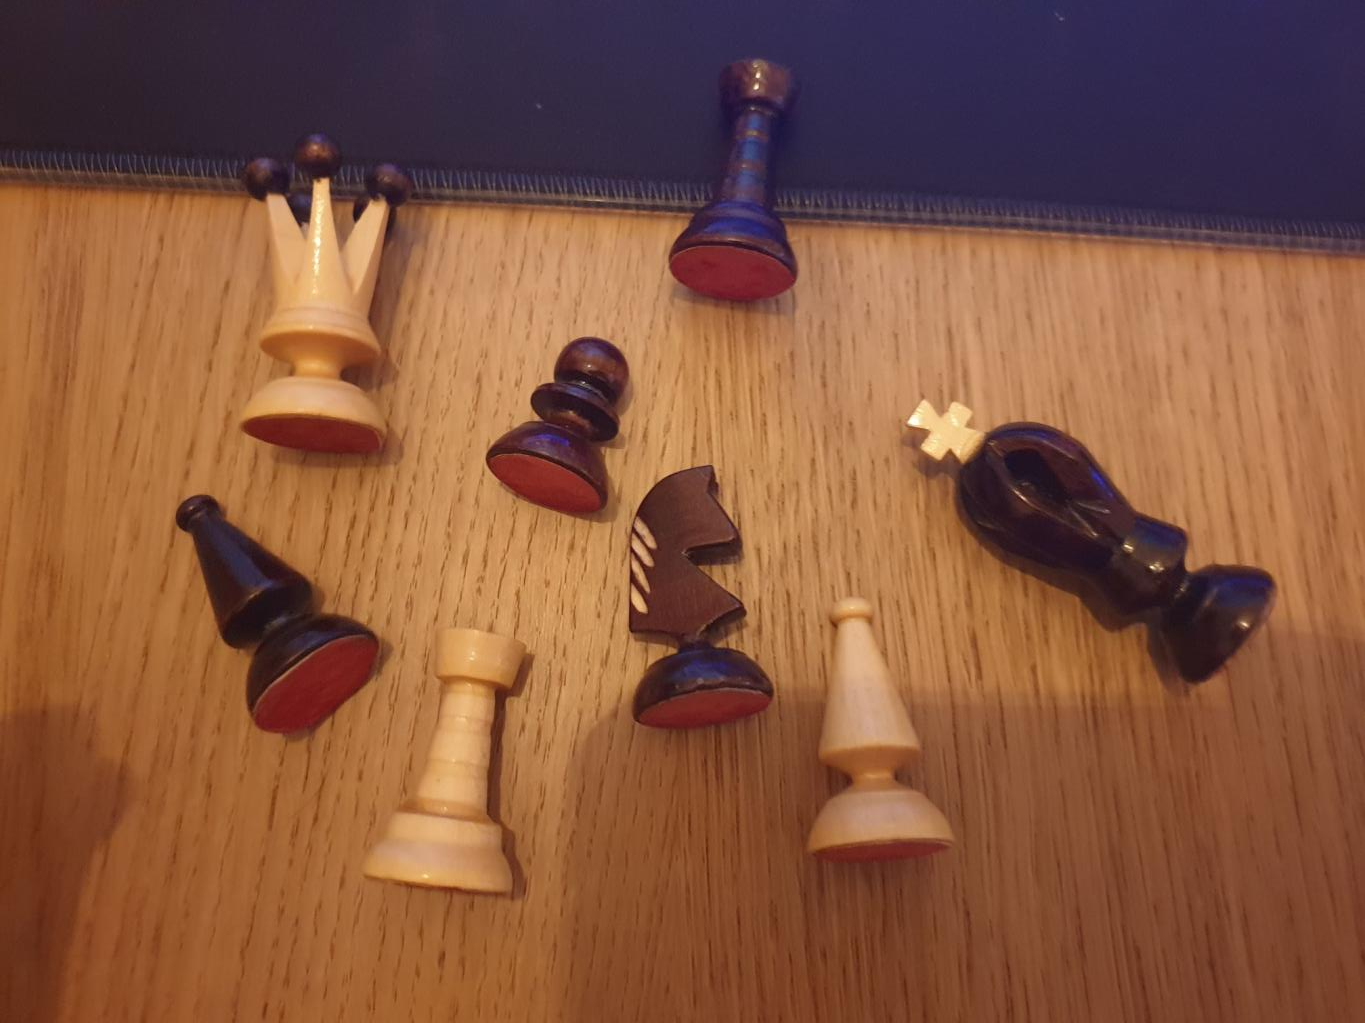bbishop: (170, 493, 380, 736)
bking: (906, 400, 1277, 683)
bknight: (620, 462, 770, 729)
bpawn: (485, 338, 630, 518)
brook: (671, 51, 803, 309)
wbishop: (805, 589, 958, 875)
wqueen: (238, 128, 410, 463)
wrook: (364, 613, 517, 902)
